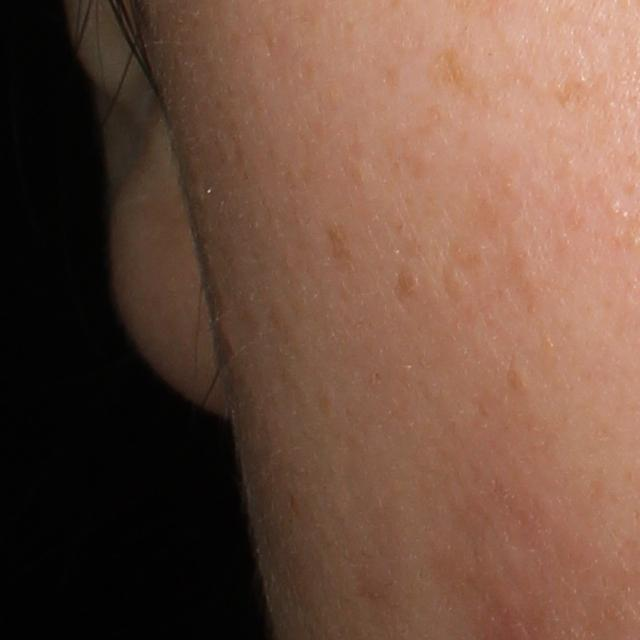comedo: (508, 357, 537, 403)
melasma: (427, 37, 467, 92), (392, 264, 422, 303)
